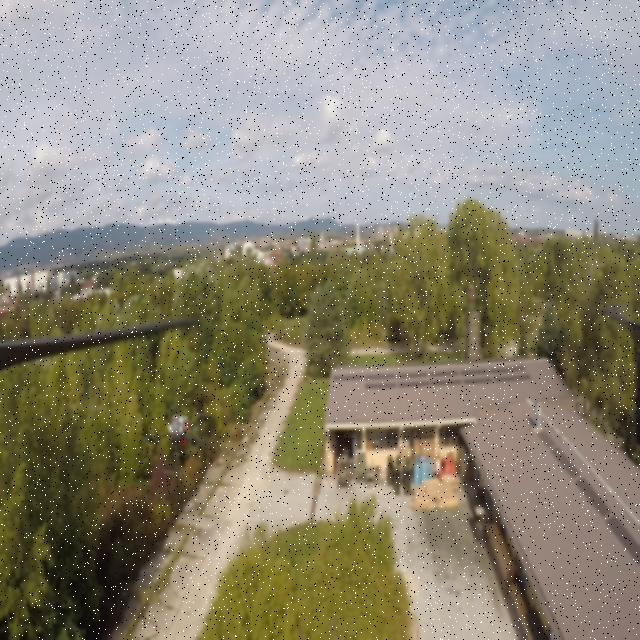UAV: (148, 407, 208, 480)
